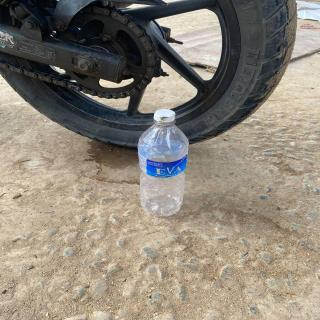Plastic-bottle: (135, 109, 192, 219)
